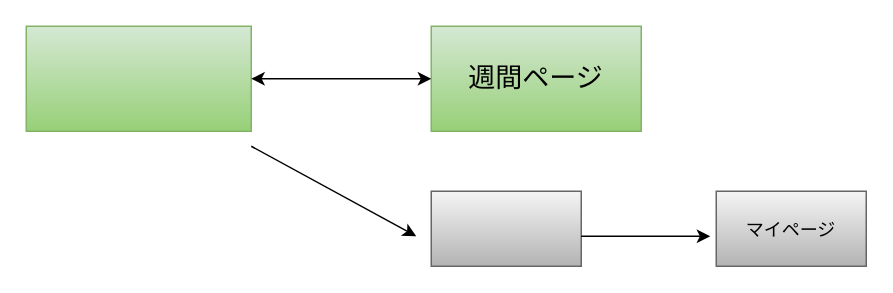
The diagram is 893 pixels wide and 293 high, and some of its shapes have lost their labels. The box of each missing label's shape, as (x1, y1, x2, y2) in pixels:
ホームページ: (25, 25, 251, 131)
ログイン機能: (430, 190, 581, 266)
